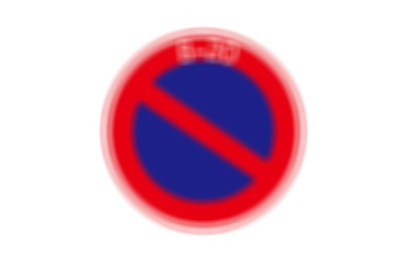Prohibition_sign: (106, 24, 312, 233)
